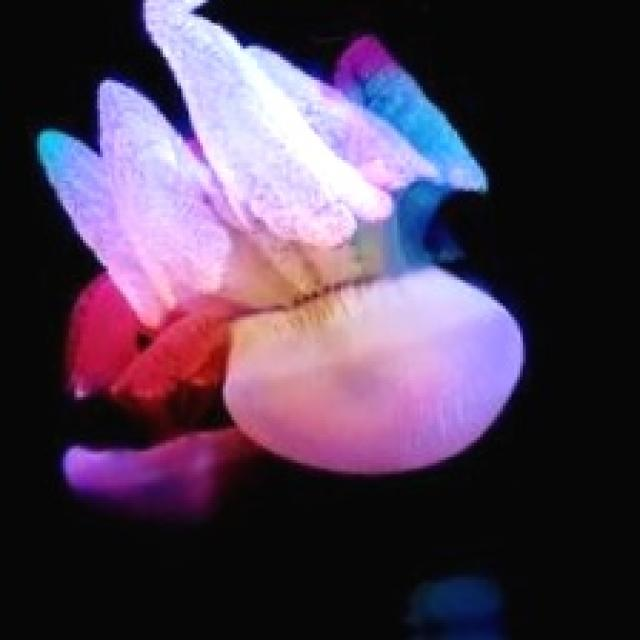Jellyfish: (31, 0, 526, 523)
